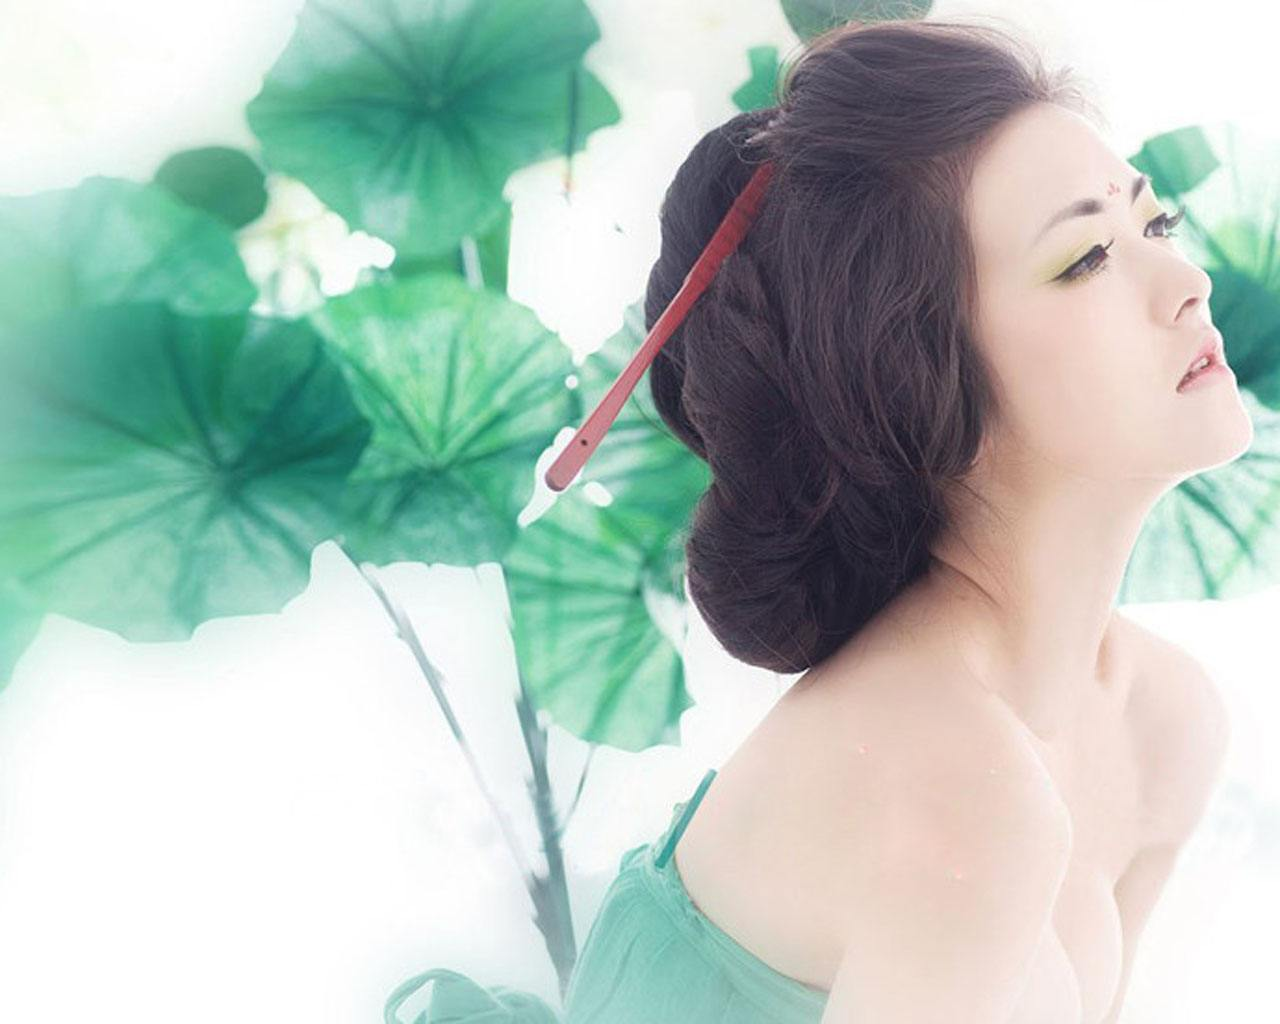person: (544, 26, 1250, 1017)
